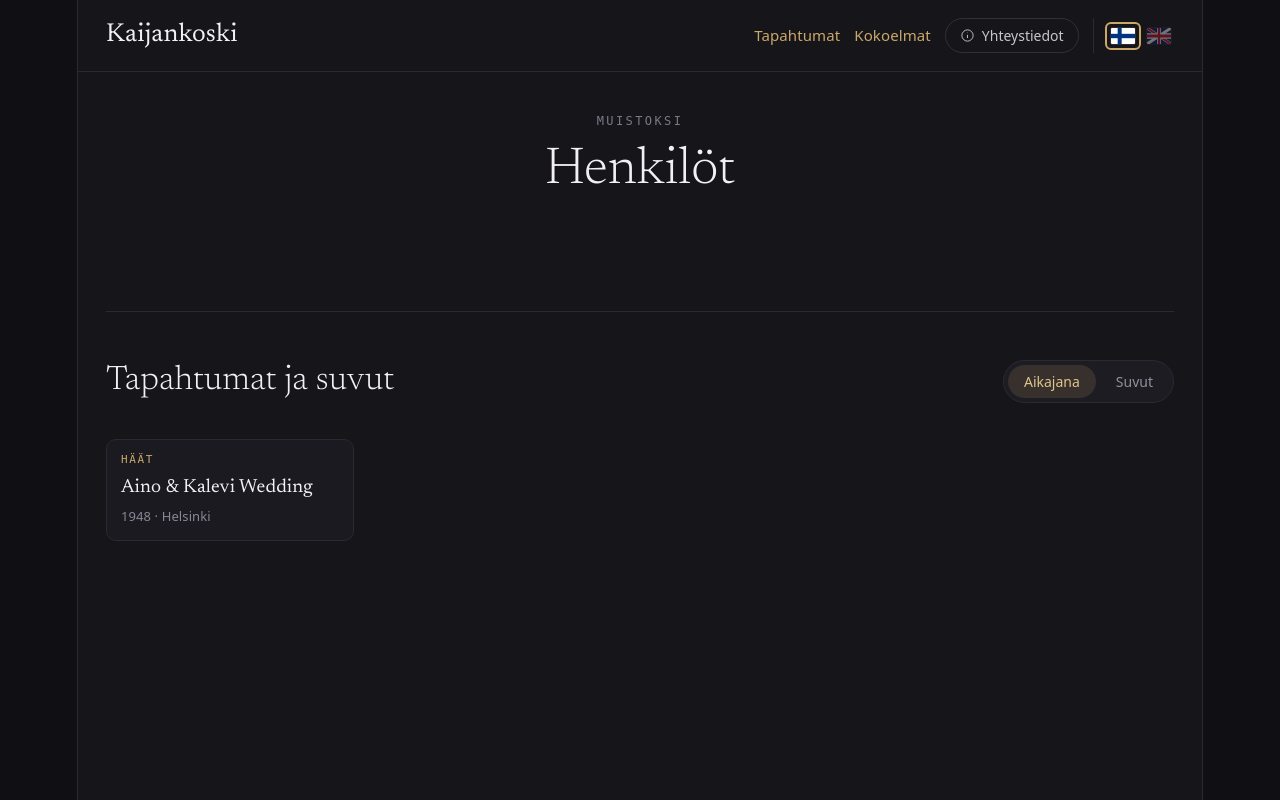
Test: PeopleIndex — events / family-lines tabs › switches to the Kin tab and links member chips to /:slug
Check: the text "Aino & Kalevi Wedding" is shown, box [121,478,313,497]
Click the tab "Suvut" at (1134, 381), box [1100,365,1169,398]
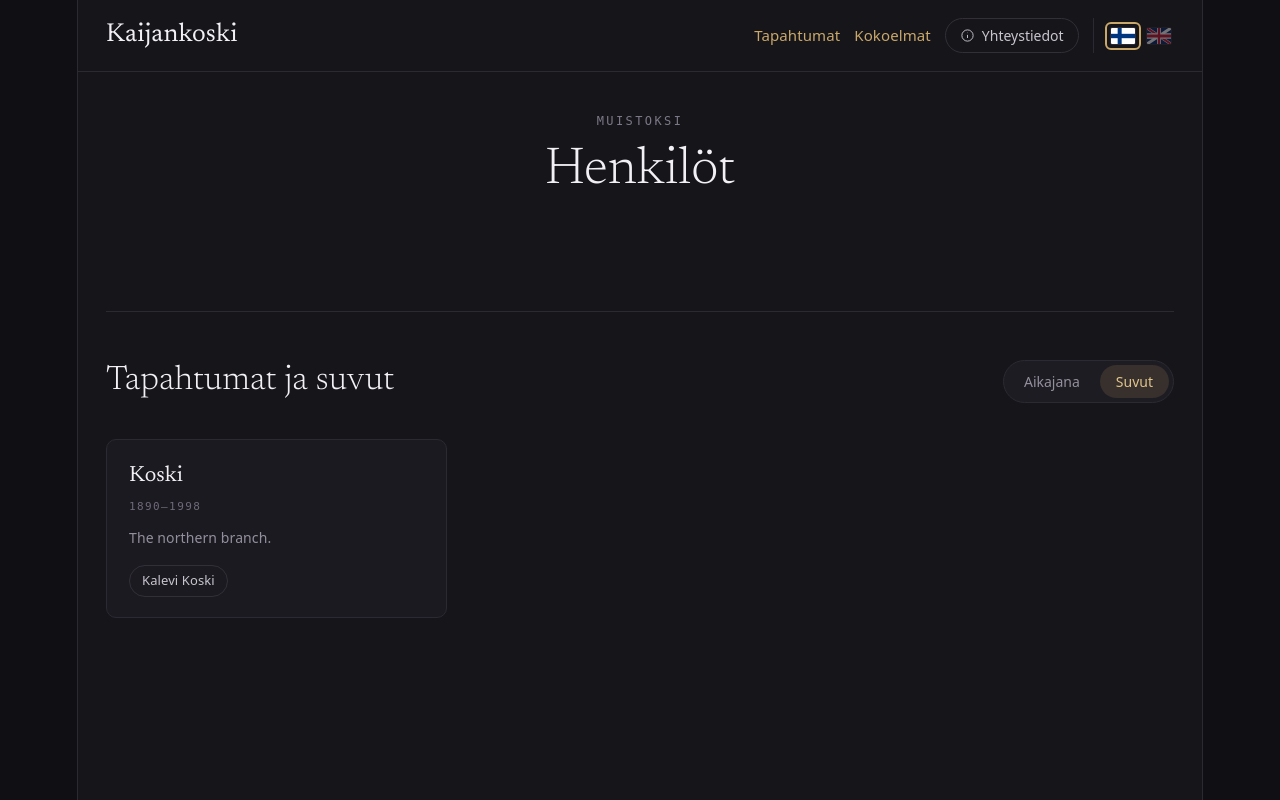
Check: the heading "Koski" is shown, box [129,465,183,487]
Check: the text "1890–1998" is shown, box [129,500,201,513]
Check: the text "The northern branch." is shown, box [129,528,271,547]
